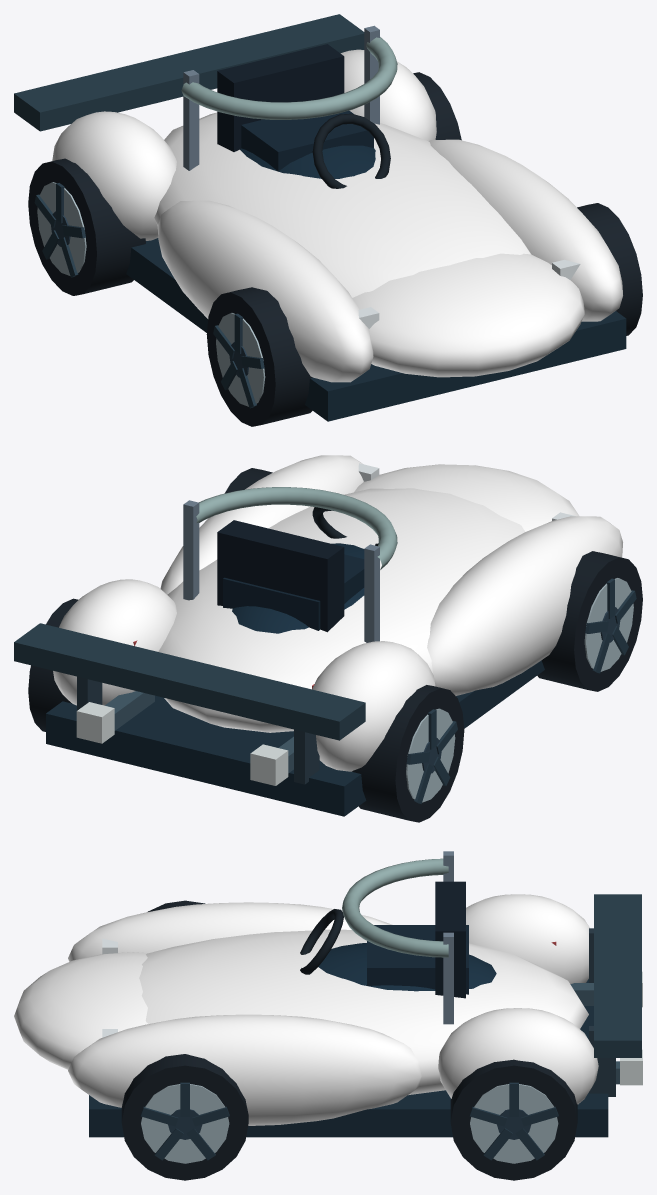
The model's file is ot-racer.glb.
3 views of the same model, one above another, from view 1: azimuth 30°, elevation 25°; view 2: azimuth 150°, elevation 25°; view 3: azimuth 270°, elevation 25° (orthographic). The views are drawn at different scales.
Visible parts, largest first — view 1: paint, details, wheel-0, wheel-2, wheel-1, wheel-3; view 2: paint, details, wheel-2, wheel-0, wheel-3, wheel-1; view 3: paint, details, wheel-1, wheel-3.
Boxes of the visible parts, x1,y1,x2,y2 form: paint: [52, 49, 622, 382]; details: [14, 14, 626, 421]; wheel-0: [206, 287, 312, 426]; wheel-2: [28, 158, 145, 295]; wheel-1: [577, 203, 642, 335]; wheel-3: [413, 72, 461, 140]; paint: [53, 455, 622, 771]; details: [14, 463, 575, 816]; wheel-2: [352, 685, 464, 822]; wheel-0: [537, 551, 642, 691]; wheel-3: [28, 598, 78, 731]; wheel-1: [224, 468, 272, 493]; paint: [14, 894, 598, 1125]; details: [89, 851, 642, 1137]; wheel-1: [121, 1054, 248, 1180]; wheel-3: [450, 1059, 577, 1180].
Size of the model in its own units: 2.07 by 1.17 by 3.27.
